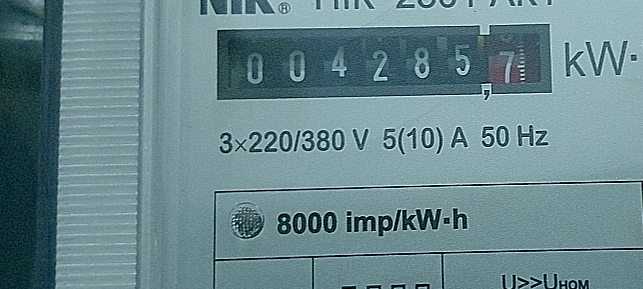0: (286, 47, 307, 84), (243, 50, 264, 85)
2: (369, 47, 389, 83)
4: (330, 44, 347, 79)
5: (451, 41, 472, 77)
7: (496, 49, 515, 85)
8: (410, 44, 431, 81)
screen: (201, 13, 566, 113)
